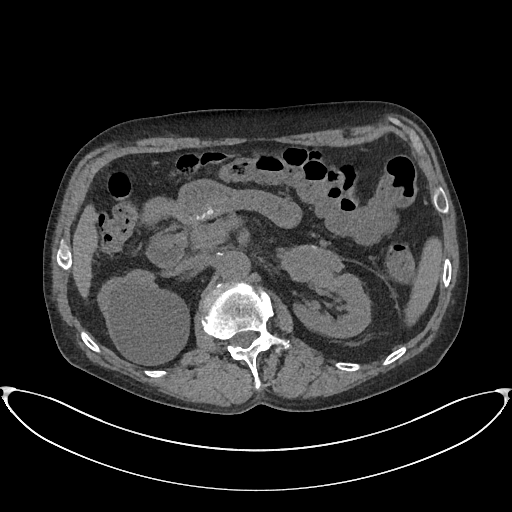Lesion: (277, 242, 349, 285)
